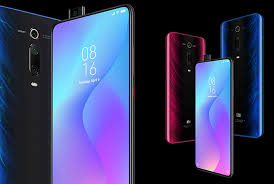mi: (48, 6, 137, 184)
